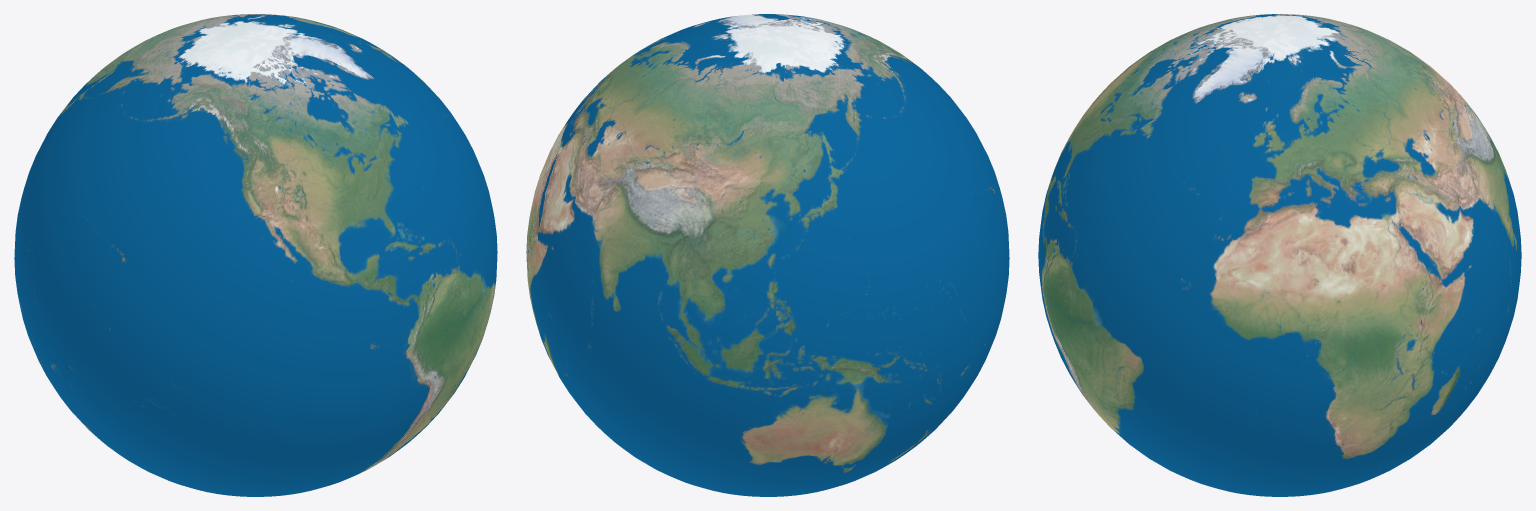
File: earth.glb
The picture shows the model from 3 angles, left to right: view 1: azimuth 30°, elevation 25°; view 2: azimuth 150°, elevation 25°; view 3: azimuth 270°, elevation 25°; orthographic projection.
Size of the model in its own units: 2 by 2 by 2.
Materials: 1 (1 with a texture image).
